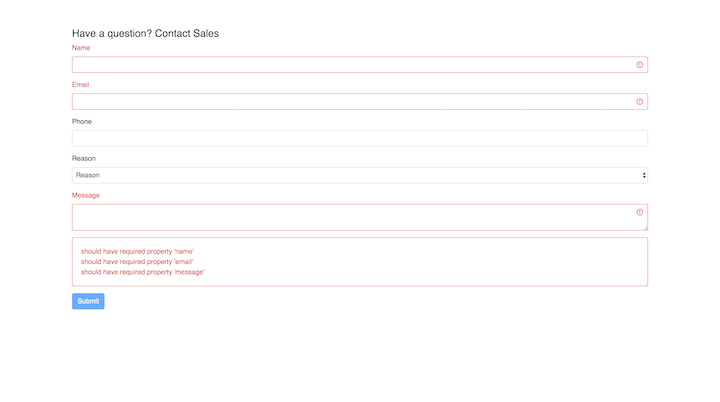error_field: (71, 202, 649, 232), (71, 54, 649, 74), (71, 93, 649, 111)
error_message: (79, 248, 211, 276), (71, 191, 103, 199), (71, 81, 93, 89), (70, 44, 91, 52)
